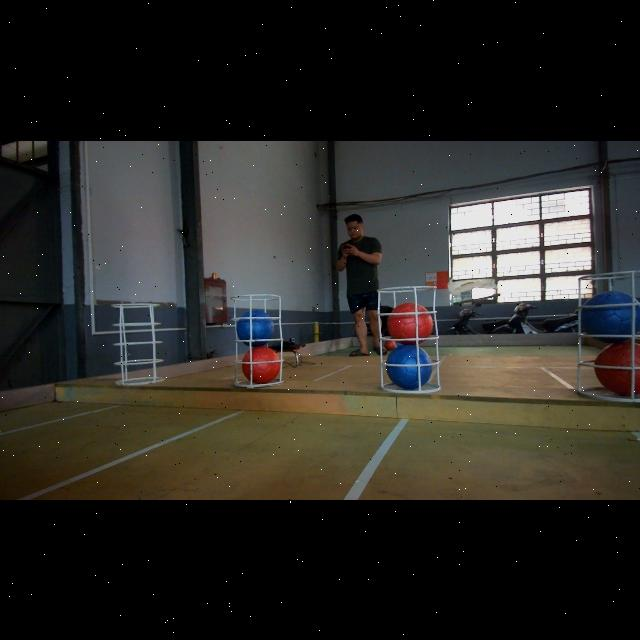B: (582, 290, 640, 342), (386, 344, 434, 388), (234, 308, 276, 346)
R: (594, 341, 640, 397), (387, 301, 433, 344), (240, 346, 280, 386)
